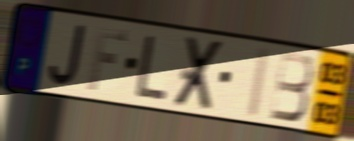B: (268, 49, 315, 124)
F: (85, 25, 130, 93)
I: (244, 44, 273, 120)
J: (46, 23, 88, 88)
L: (133, 33, 170, 103)
X: (171, 35, 228, 113)
